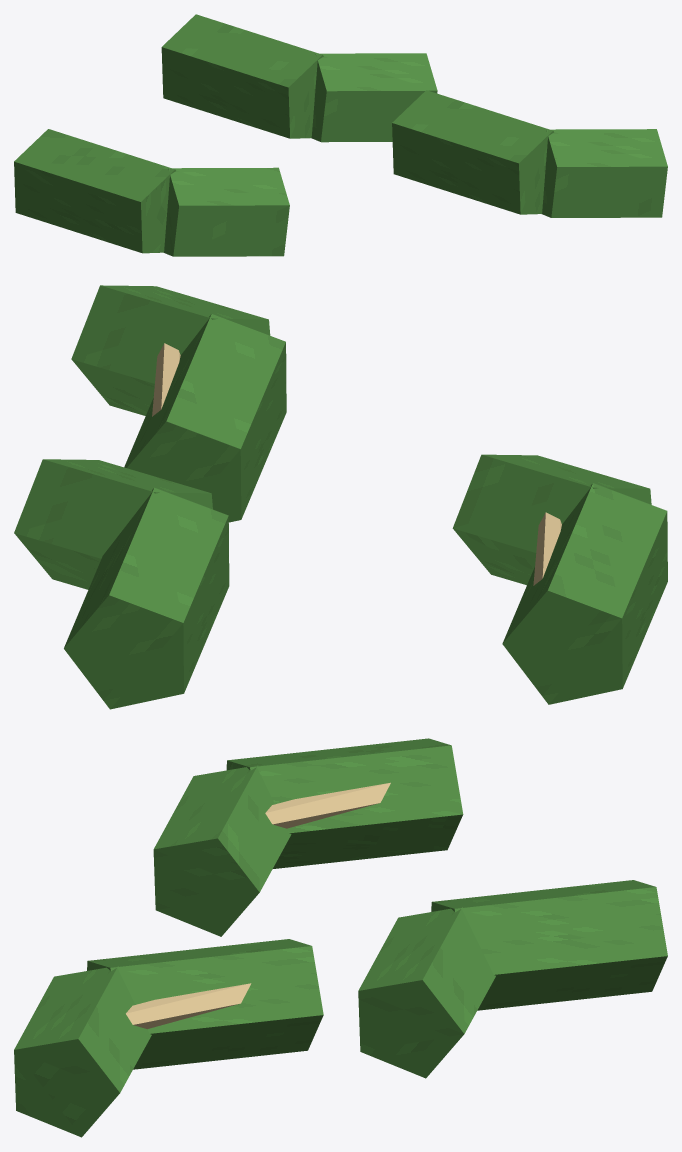
Rendered from bell_pepper_cut.glb.
3 views of the same model, one above another, from view 1: azimuth 30°, elevation 25°; view 2: azimuth 150°, elevation 25°; view 3: azimuth 270°, elevation 25° (orthographic). The views are drawn at different scales.
Visible parts, largest first — view 1: block_hollow sliced pepper 0 (×3), block_hollow sliced pepper 1 (×3); view 2: block_hollow sliced pepper 0 (×3), block_hollow sliced pepper 1 (×3), block_pale inner rib (×2); view 3: block_hollow sliced pepper 0 (×3), block_hollow sliced pepper 1 (×3), block_pale inner rib (×2).
Boxes of the visible parts, x1,y1,x2,y2 form: block_hollow sliced pepper 0 (×3): (14,14,553,253); block_hollow sliced pepper 1 (×3): (164,53,667,256); block_hollow sliced pepper 0 (×3): (64,314,667,709); block_hollow sliced pepper 1 (×3): (14,285,651,589); block_pale inner rib (×2): (152,343,561,585); block_hollow sliced pepper 0 (×3): (87,738,667,1069); block_hollow sliced pepper 1 (×3): (14,765,495,1137); block_pale inner rib (×2): (126,782,390,1029).
Size of the model in its own units: 0.1094 by 0.0191 by 0.0958.
Materials: 1 (1 with a texture image).
